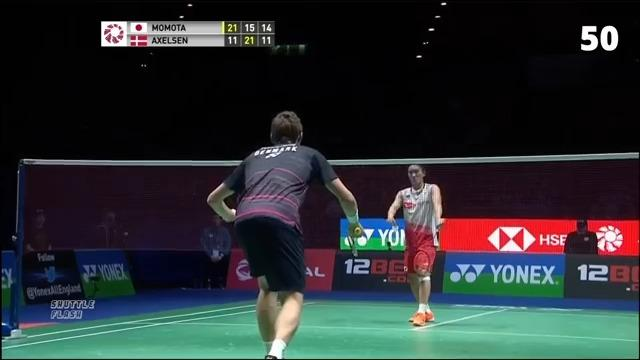Shuttlecock: (388, 222, 404, 233)
